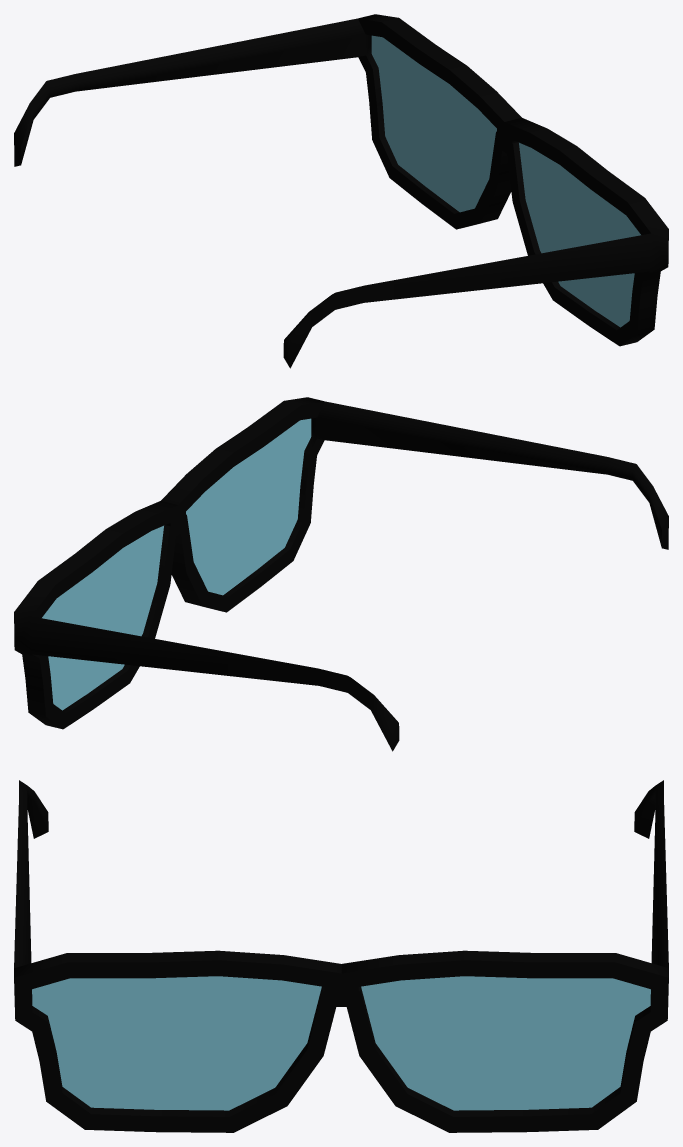
Rendered from Glasses.fbx.
The picture shows the model from 3 angles, top to bottom: view 1: azimuth 30°, elevation 25°; view 2: azimuth 150°, elevation 25°; view 3: azimuth 270°, elevation 25°; orthographic projection. The views are drawn at different scales.
Parts seen in each view (by area): view 1: Cube; view 2: Cube; view 3: Cube.
Boxes of the visible parts, <box> form: Cube: <box>14,14,668,368</box>; Cube: <box>14,397,668,751</box>; Cube: <box>14,780,668,1132</box>.
Bounding box in the file's own units: 130 × 51.9 × 178.
